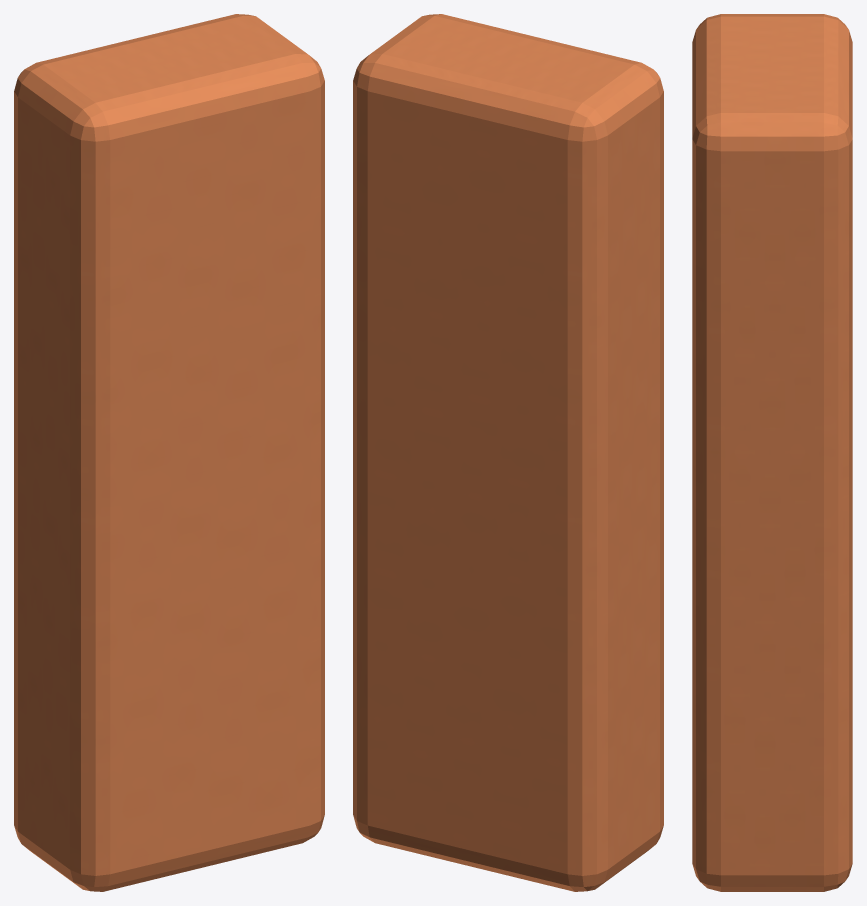
Rendered from domino.glb.
The picture shows the model from 3 angles, left to right: view 1: azimuth 30°, elevation 25°; view 2: azimuth 150°, elevation 25°; view 3: azimuth 270°, elevation 25°; orthographic projection.
Parts seen in each view (by area): view 1: Domino_Body; view 2: Domino_Body; view 3: Domino_Body.
Boxes of the visible parts, box(x1,y1,x2,y2) form: Domino_Body: box(14, 14, 324, 891); Domino_Body: box(353, 14, 663, 891); Domino_Body: box(692, 14, 852, 891).
Size of the model in its own units: 0.16 by 0.48 by 0.09.
Materials: 1 (1 with a texture image).
